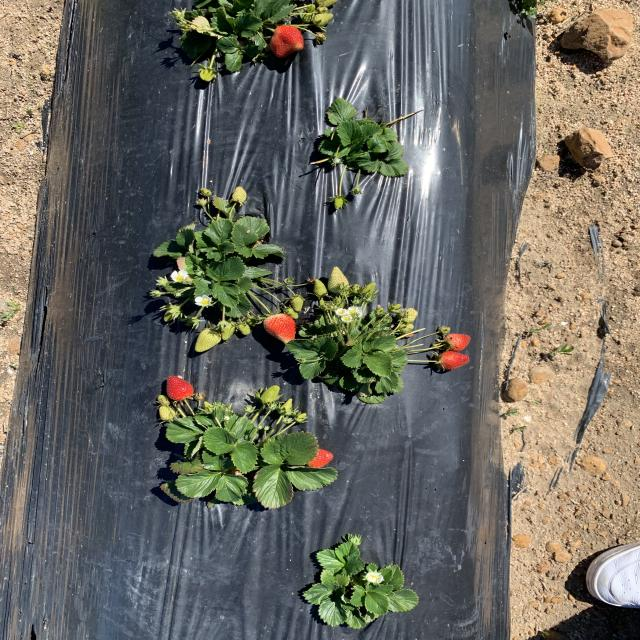unripe: (266, 24, 310, 58), (297, 445, 335, 470), (163, 373, 196, 401), (434, 350, 469, 373)
